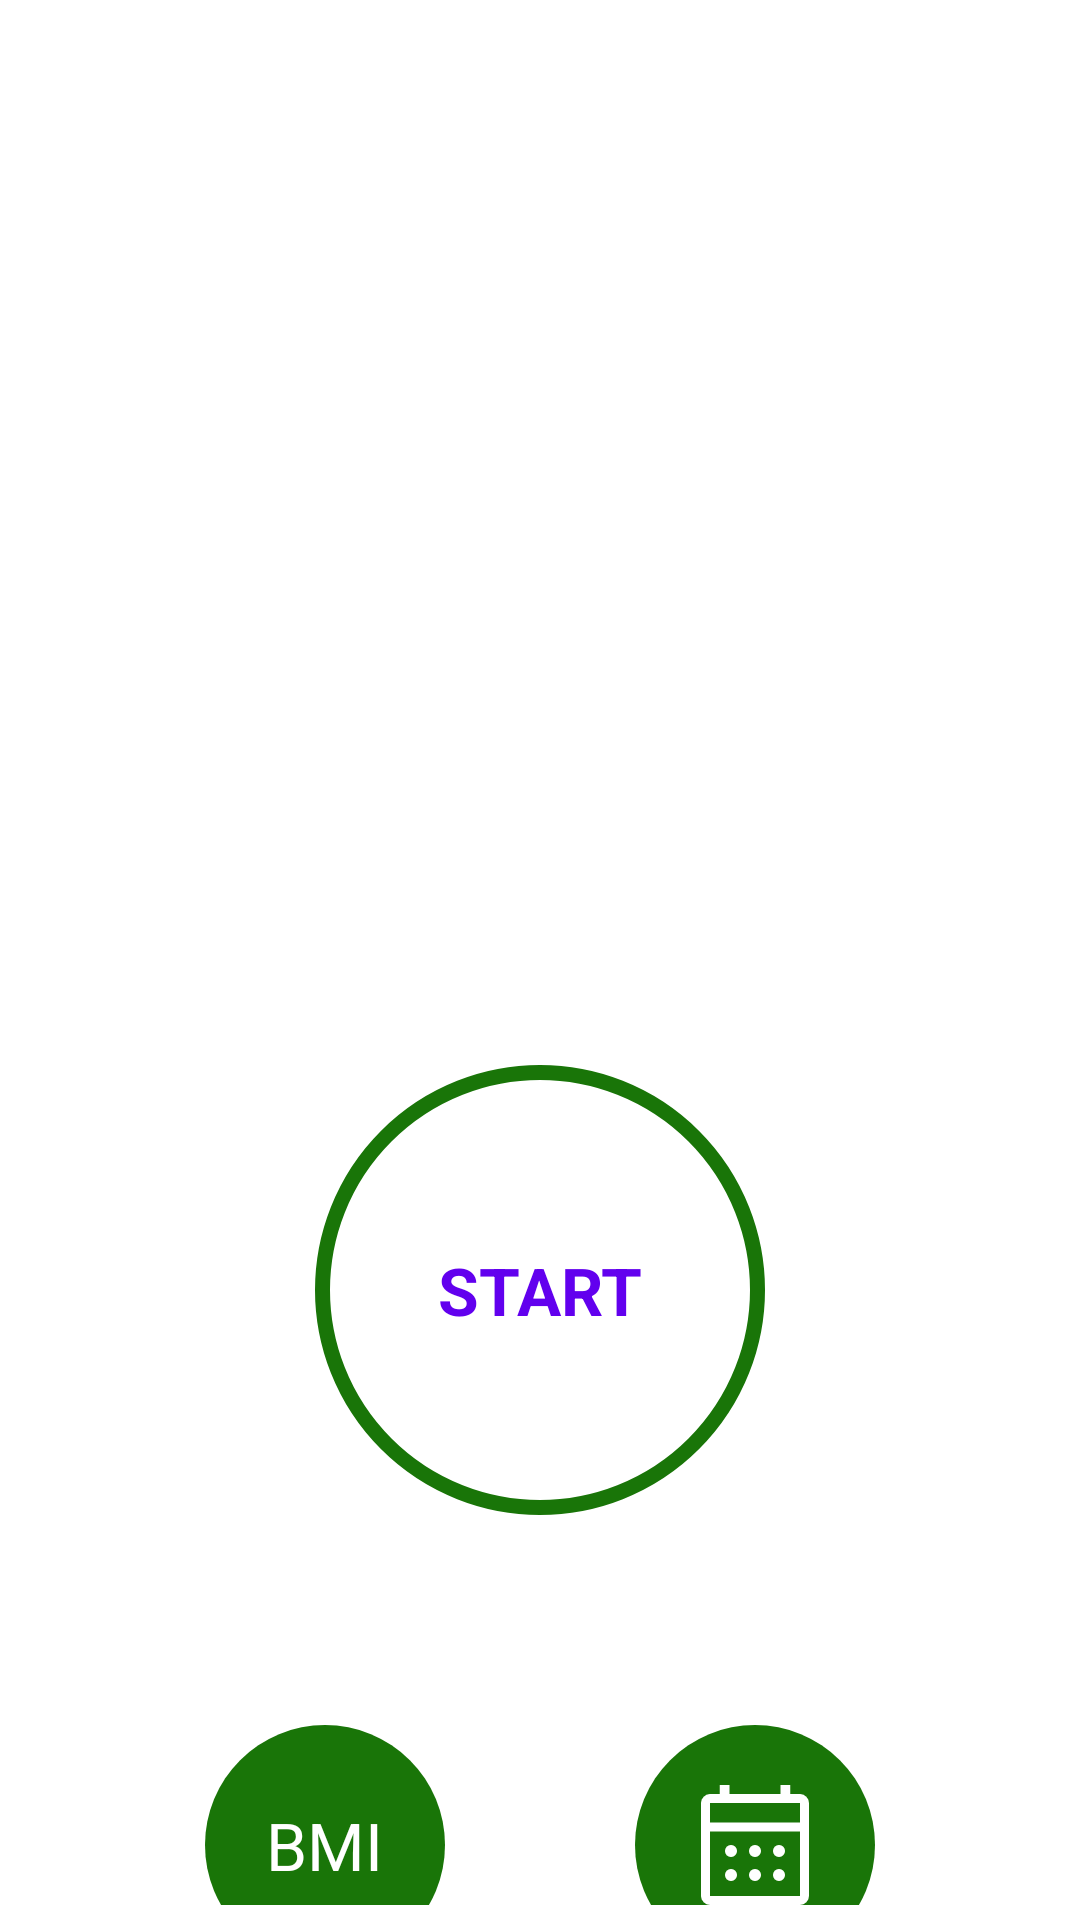

Named icons in this screenshot (1080*1920) and their bounding boxes, bbox=[x1, y1, x2, y2]:
history calender: bbox=[683, 1785, 827, 1917]
